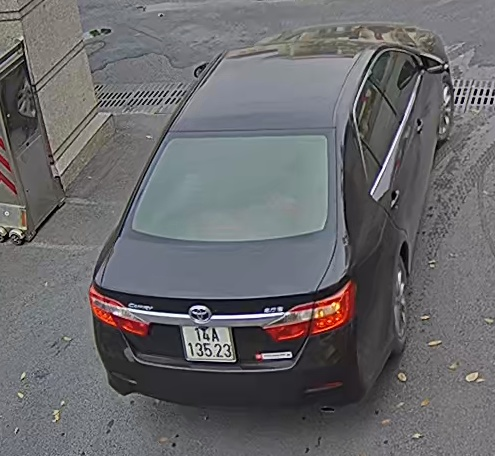vehicle plate: (175, 319, 238, 364)
